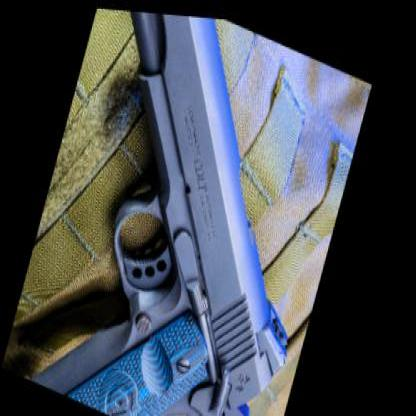pistol: (10, 3, 364, 412)
